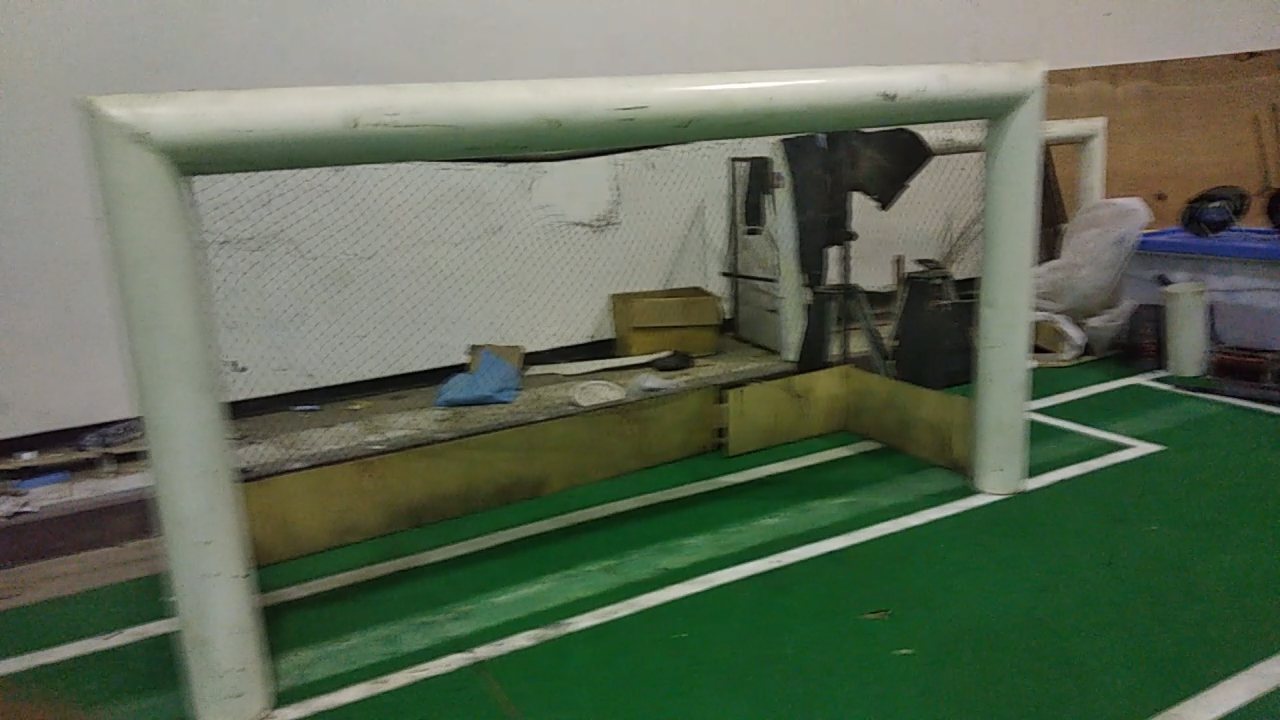gawang: (67, 40, 1043, 719)
